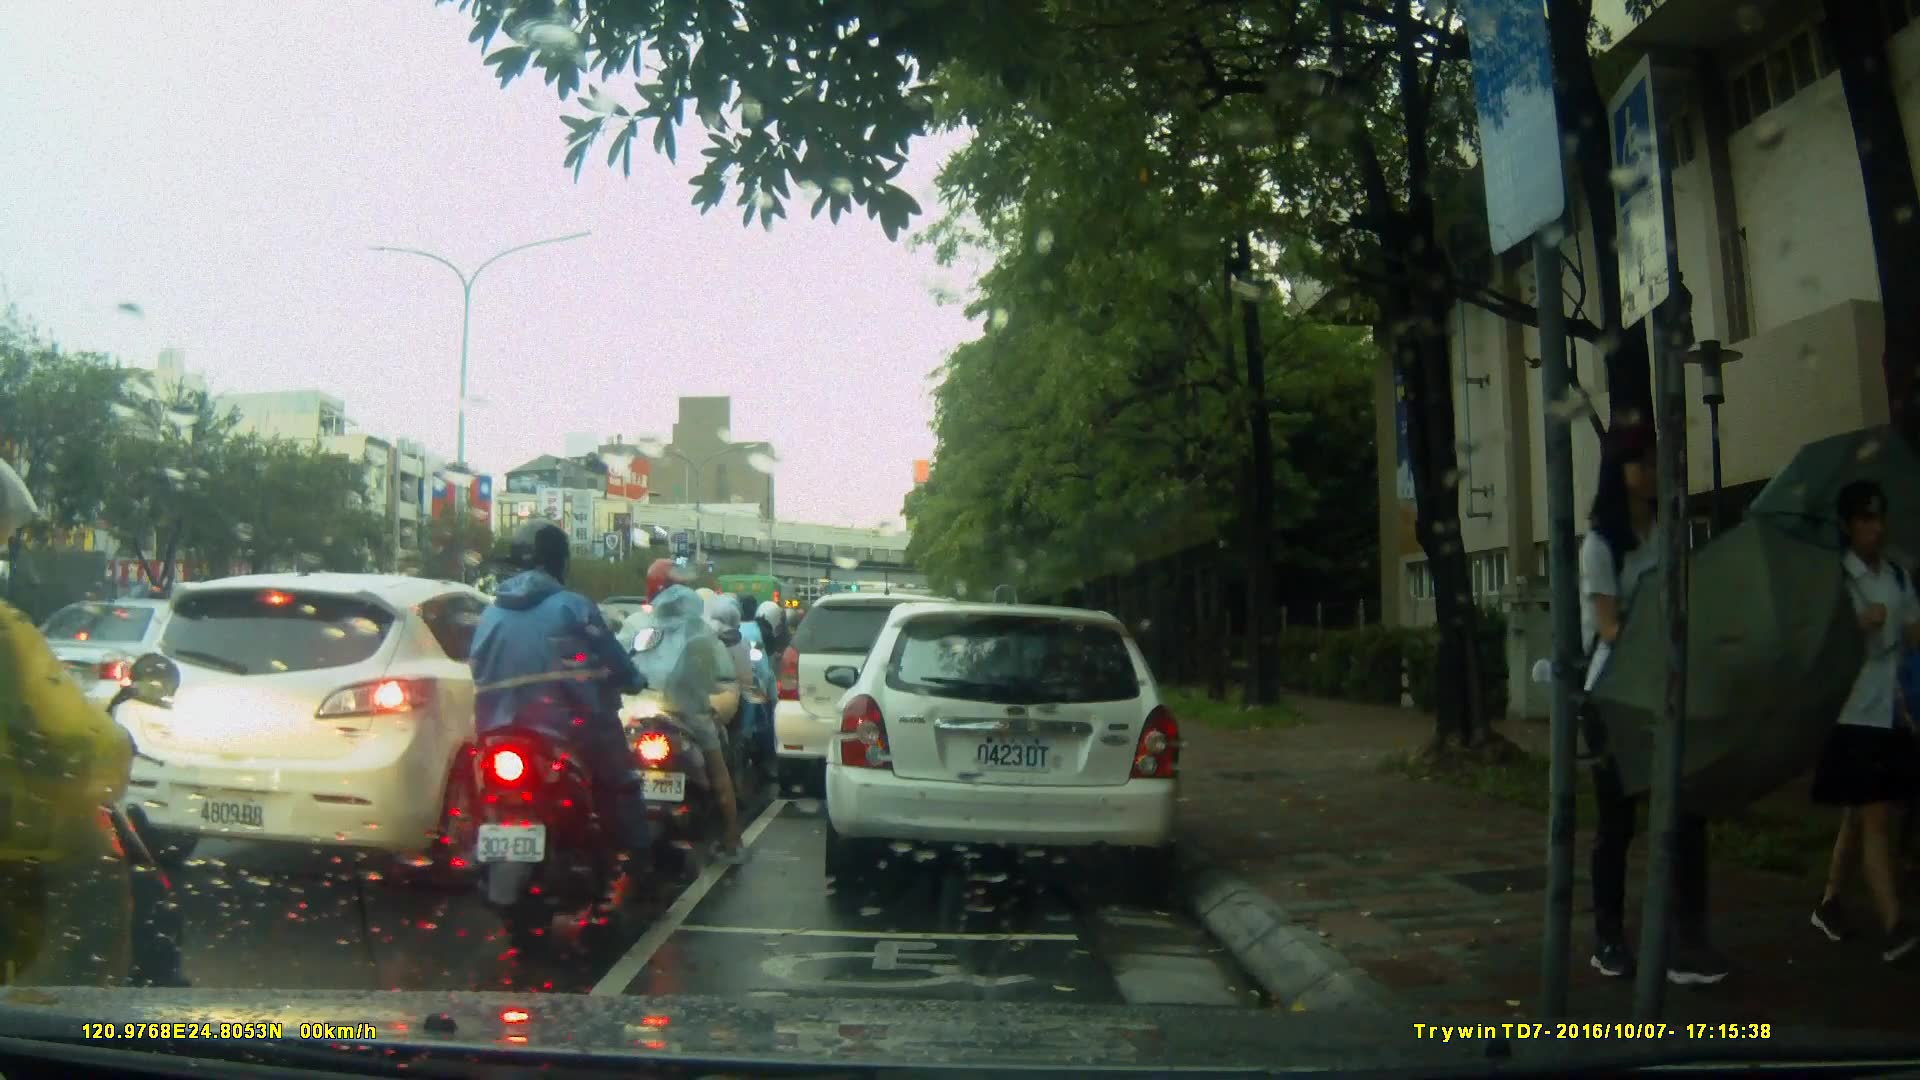pedestrian: (1574, 430, 1737, 989), (1780, 469, 1917, 978)
rider: (1, 455, 194, 1080), (451, 517, 658, 944), (595, 560, 744, 867), (642, 581, 764, 823), (716, 594, 788, 767)
vehicle: (108, 570, 588, 885), (822, 604, 1188, 883), (774, 595, 995, 802), (12, 599, 241, 730)
